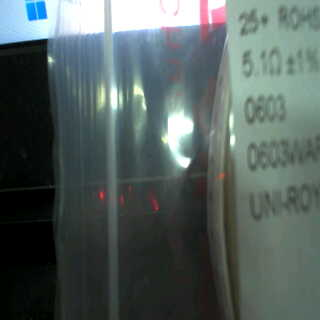5.1R: (240, 45, 285, 83)
